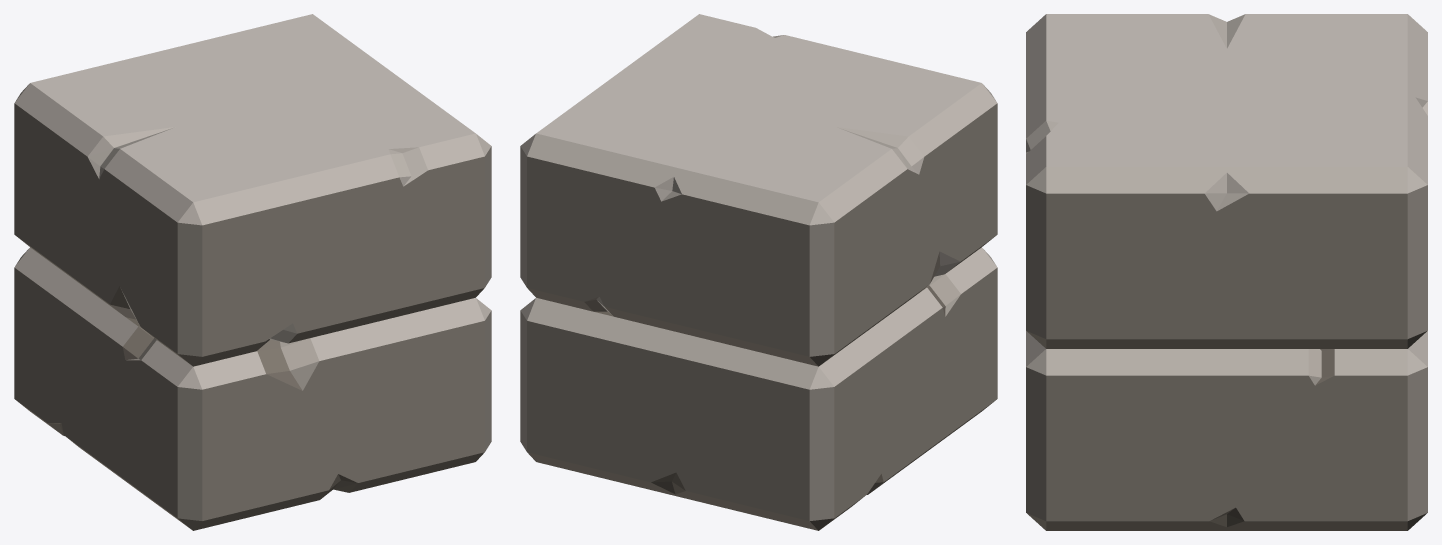
Rendered from m_kub_stone_cubeSmallDouble.FBX.
3 views of the same model, side by side, from view 1: azimuth 30°, elevation 25°; view 2: azimuth 150°, elevation 25°; view 3: azimuth 270°, elevation 25° (orthographic). The views are drawn at different scales.
Visible parts, largest first — view 1: m_kub_stone_cubeSmallDouble; view 2: m_kub_stone_cubeSmallDouble; view 3: m_kub_stone_cubeSmallDouble.
Boxes of the visible parts, left/top/right/bottom form: m_kub_stone_cubeSmallDouble: left=14, top=14, right=491, bottom=530; m_kub_stone_cubeSmallDouble: left=520, top=14, right=997, bottom=530; m_kub_stone_cubeSmallDouble: left=1026, top=14, right=1427, bottom=530.
Size of the model in its own units: 2 by 2 by 2.
